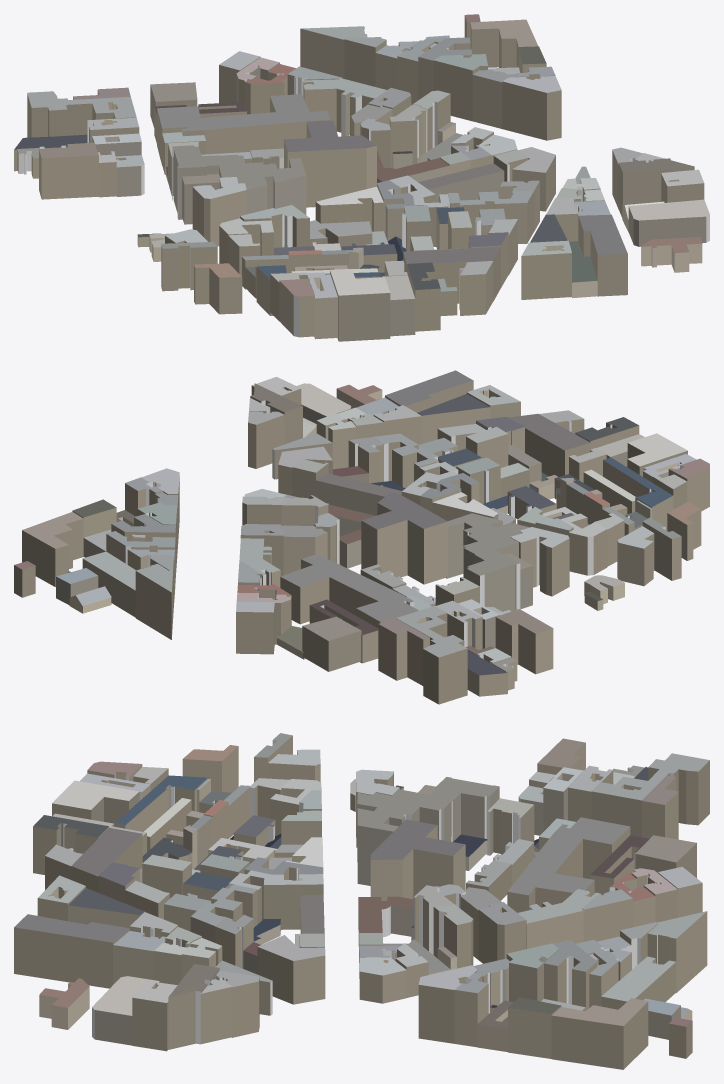
The picture shows the model from 3 angles, top to bottom: view 1: azimuth 30°, elevation 25°; view 2: azimuth 150°, elevation 25°; view 3: azimuth 270°, elevation 25°; orthographic projection. The views are drawn at different scales.
Visible parts, largest first — view 1: tuile; view 2: tuile; view 3: tuile.
Boxes of the visible parts, left/top/right/bottom form: tuile: left=14, top=14, right=709, bottom=341; tuile: left=14, top=370, right=709, bottom=704; tuile: left=14, top=733, right=709, bottom=1069.
Size of the model in its own units: 271 by 29.97 by 280.
